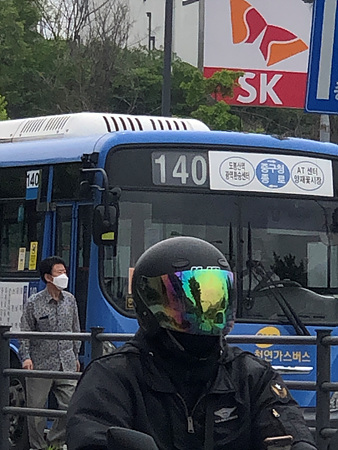bnum: (152, 151, 209, 185)
